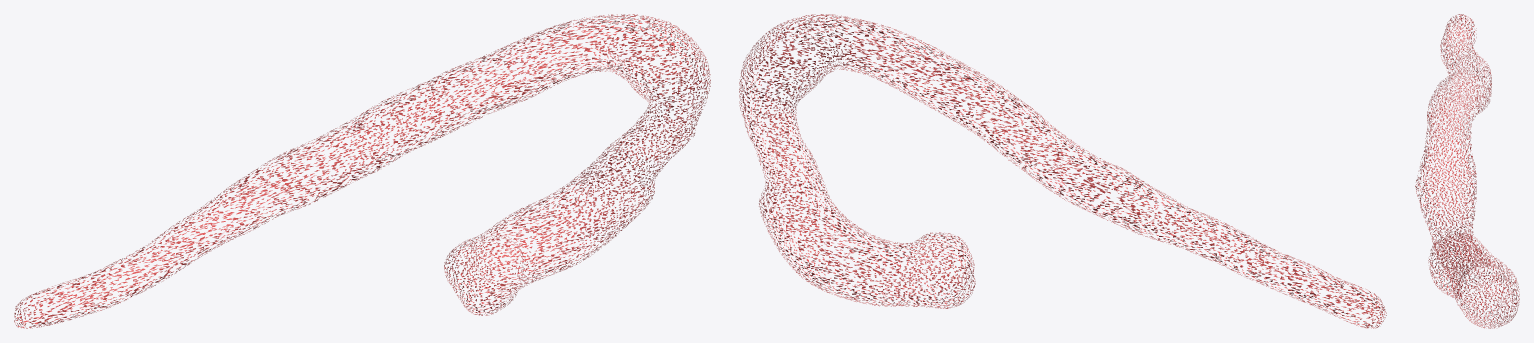
The model's file is aorta.glb.
3 renders of one model, left to right at view 1: azimuth 30°, elevation 25°; view 2: azimuth 150°, elevation 25°; view 3: azimuth 270°, elevation 25°, orthographic. The views are drawn at different scales.
Size of the model in its own units: 365 by 140 by 59.37.
